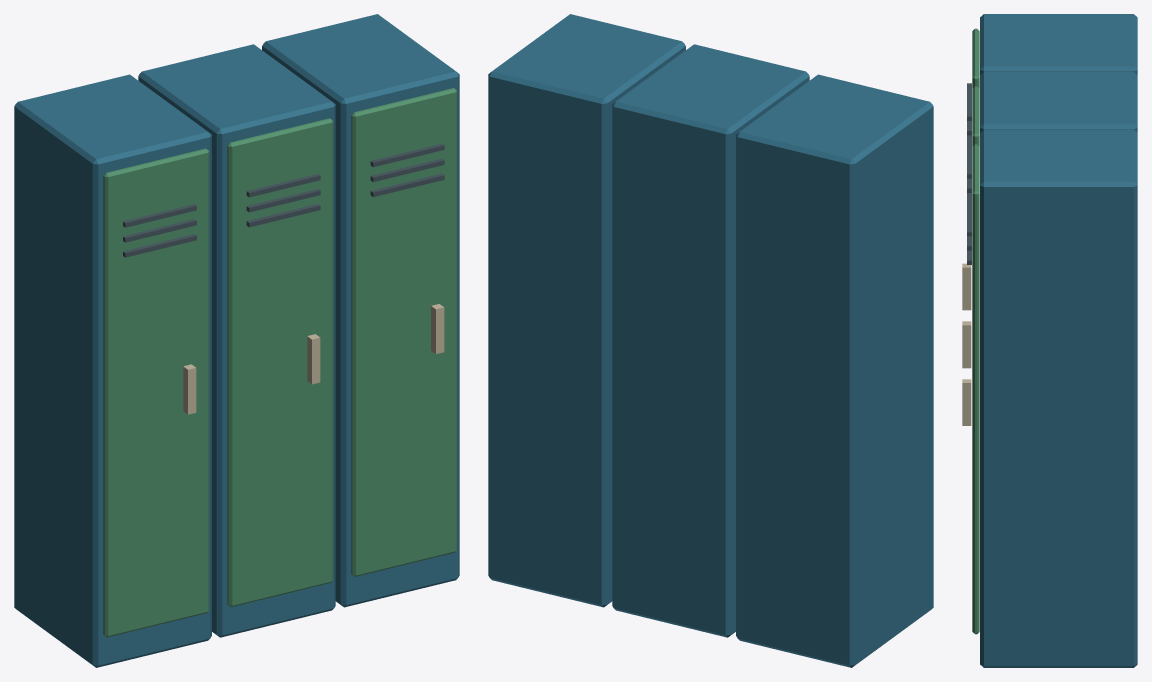
File: staff_lockers.glb
The picture shows the model from 3 angles, left to right: view 1: azimuth 30°, elevation 25°; view 2: azimuth 150°, elevation 25°; view 3: azimuth 270°, elevation 25°; orthographic projection. The views are drawn at different scales.
Visible parts, largest first — view 1: staff_lockers; view 2: staff_lockers; view 3: staff_lockers.
Part boxes in pixels (x1,y1,x2,y2): staff_lockers: (14,14,459,667); staff_lockers: (488,14,933,667); staff_lockers: (962,14,1137,667).
Size of the model in its own units: 1.54 by 2.04 by 0.6675.
